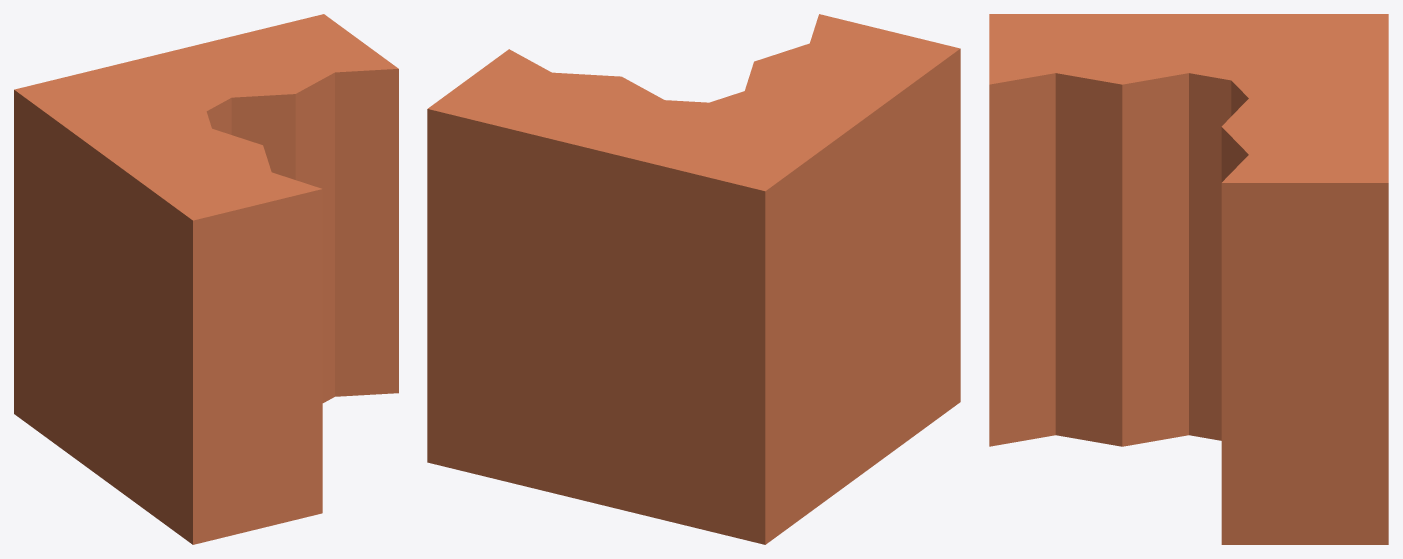
The model's file is cliff_cornerInnerLarge_rock.dae.
3 views of the same model, side by side, from view 1: azimuth 30°, elevation 25°; view 2: azimuth 150°, elevation 25°; view 3: azimuth 270°, elevation 25° (orthographic). The views are drawn at different scales.
Parts seen in each view (by area): view 1: cliff_cornerInnerLarge_rock; view 2: cliff_cornerInnerLarge_rock; view 3: cliff_cornerInnerLarge_rock.
Part boxes in pixels (box(x1,y1,x2,y2)): cliff_cornerInnerLarge_rock: box(14, 14, 398, 544); cliff_cornerInnerLarge_rock: box(427, 14, 960, 544); cliff_cornerInnerLarge_rock: box(989, 14, 1388, 544).
Size of the model in its own units: 1 by 1 by 1.
